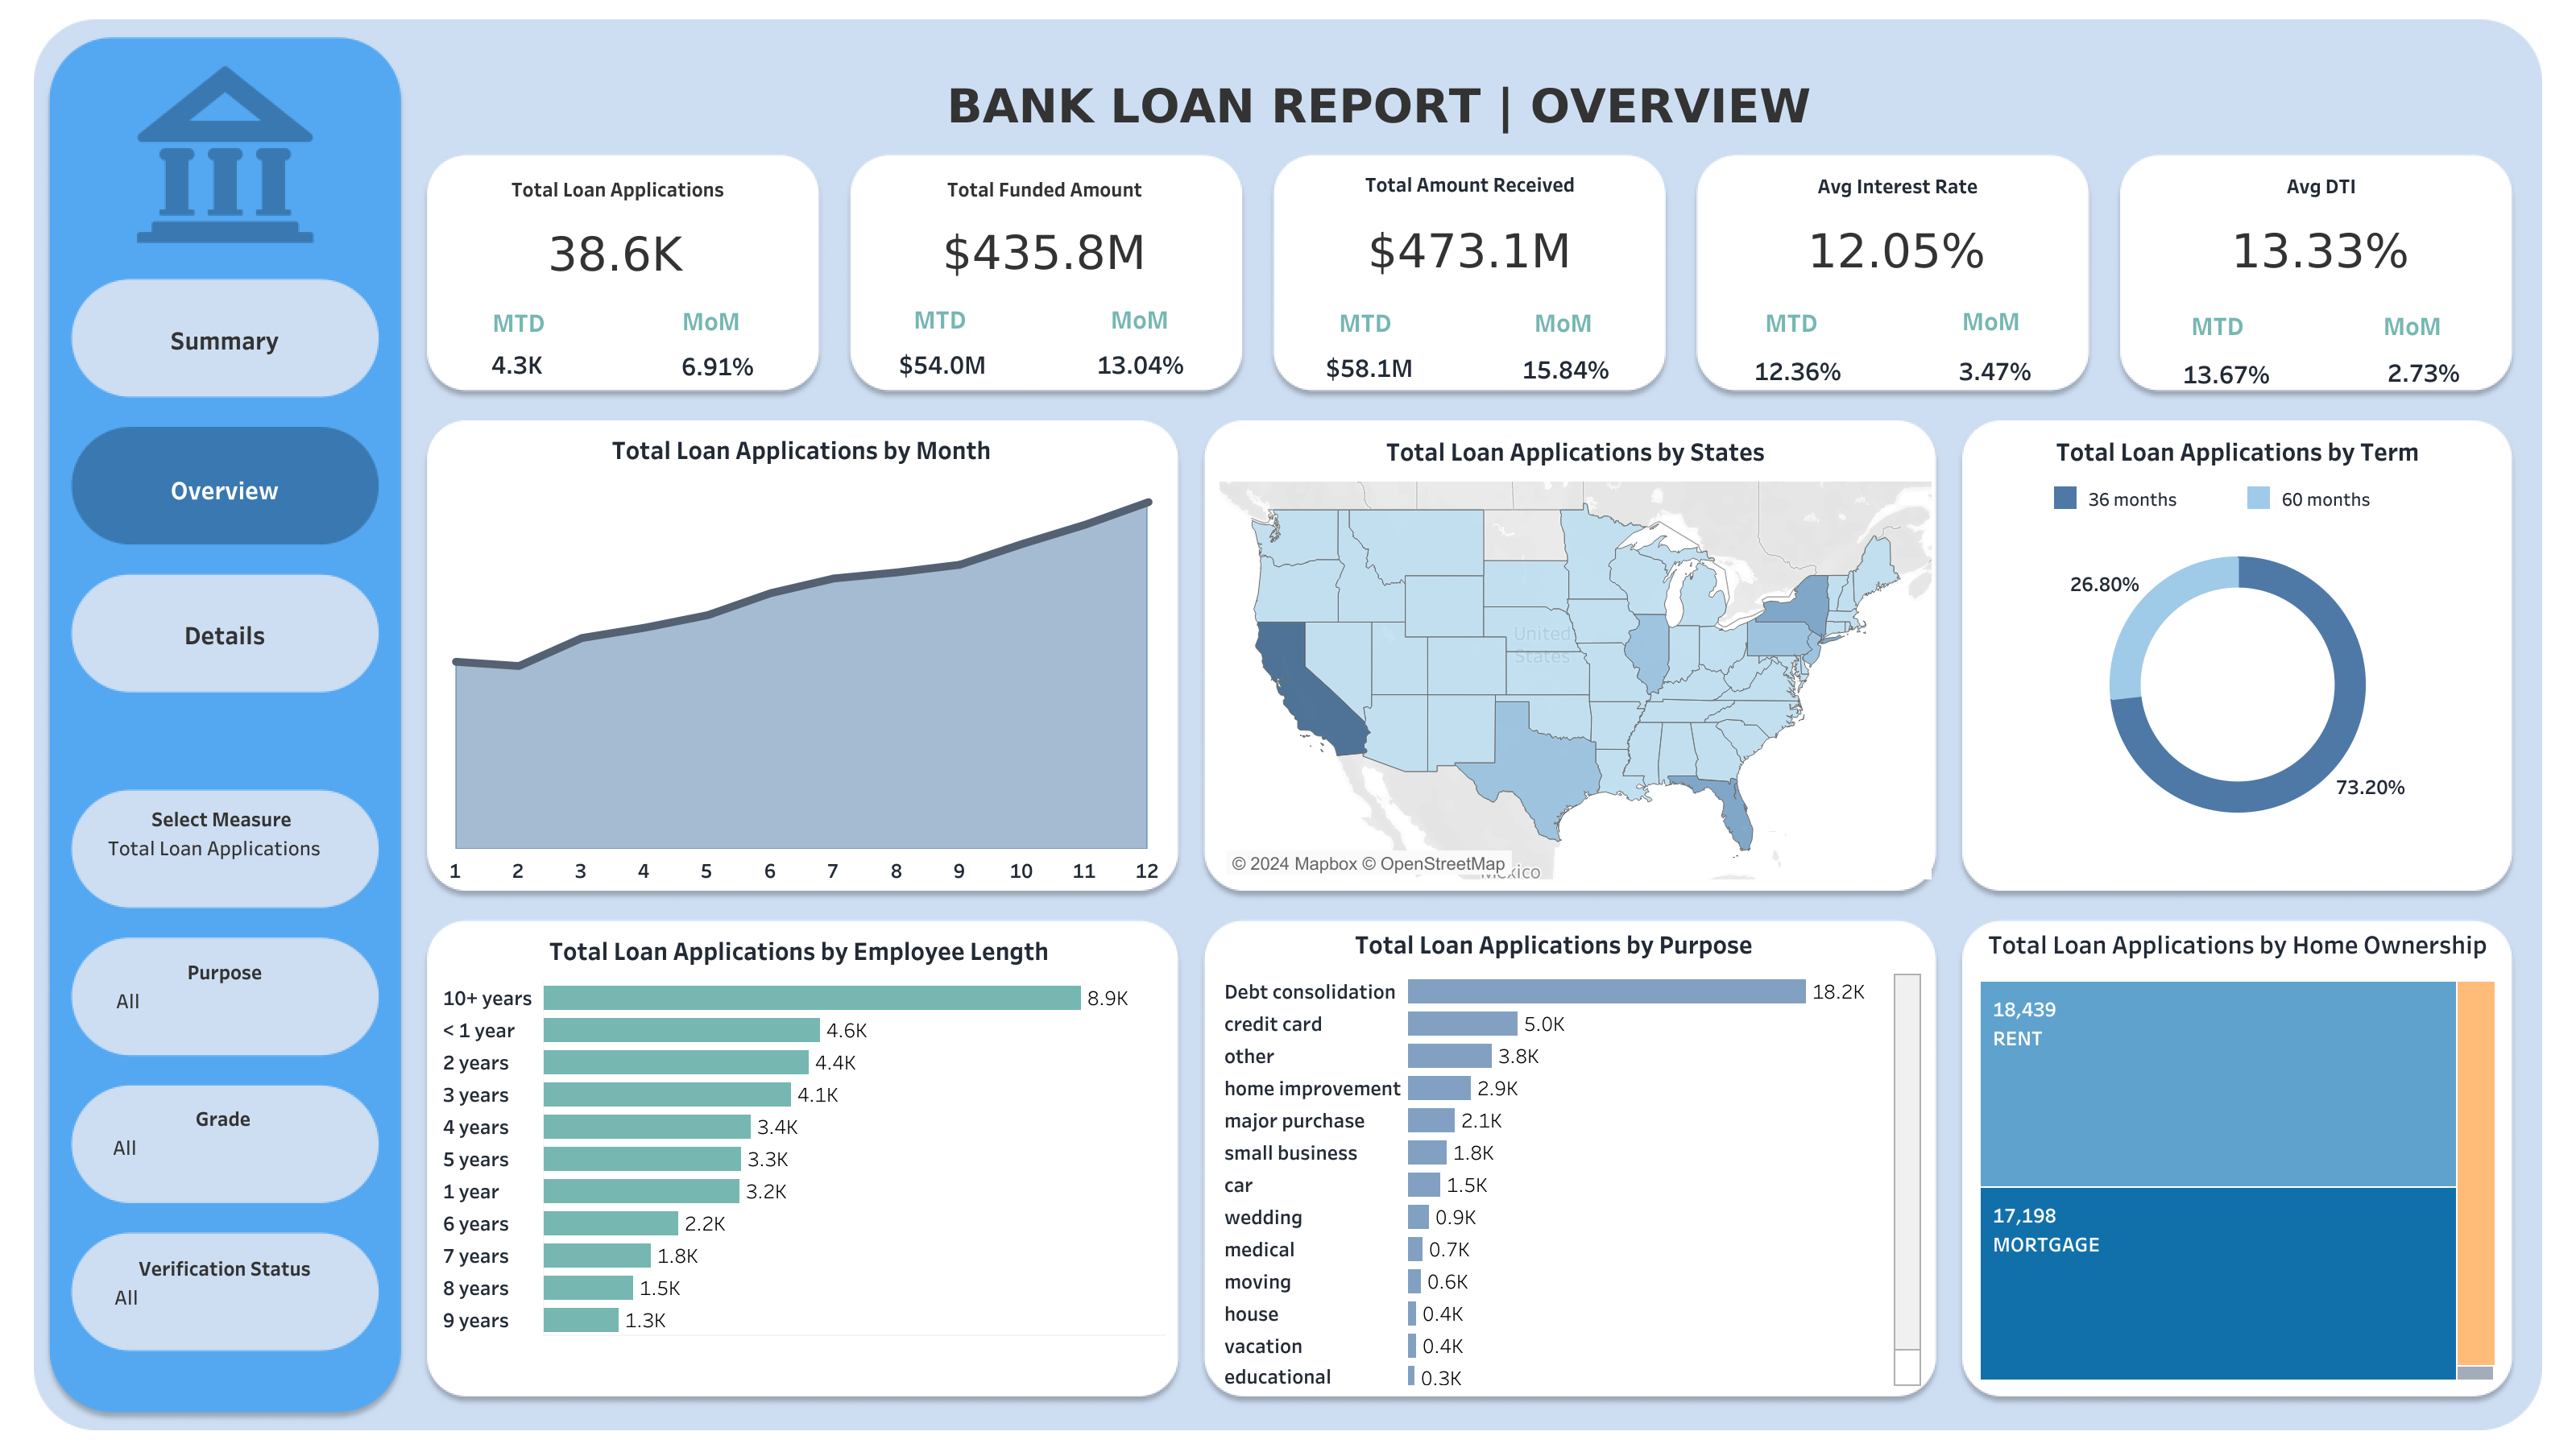

The page's visual inventory and layout, read from the dashboard file:
{"tool":"tableau","page":{"name":"OVERVIEW","canvas":[1000,1000],"units":"permille","ordinal":1},"visuals":[{"type":"image","param":"/Users/gahooshao/Downloads/project - bank loan/BACKGROUND 2.jpg","box":[5.3,9.1,989.4,981.7]},{"type":"text","box":[298,36.7,474.1,72.1]},{"type":"worksheet","title":"Total Amount Received","mark":"Automatic","box":[493.3,110.2,154.3,91.2]},{"type":"worksheet","title":"Avg Interest Rate","mark":"Automatic","box":[659.4,111.6,153.5,88.4]},{"type":"worksheet","title":"Avg DTI","mark":"Automatic","box":[823.8,111.6,153.5,88.4]},{"type":"worksheet","title":"Total Loan Applications","mark":"Automatic","box":[164.3,112.9,150.9,89.8]},{"type":"worksheet","title":"Total Funded Amount","mark":"Automatic","box":[328.6,112.9,153.3,87.1]},{"type":"dashboard-object","box":[21.9,155.1,125.3,70.8]},{"type":"text","box":[328.1,202.7,72.8,34]},{"type":"text","box":[401.7,202.7,80.7,32.6]},{"type":"text","box":[163.5,204.1,75.5,34]},{"type":"text","box":[235.8,204.1,80.2,32.6]},{"type":"text","box":[493.3,204.1,72.8,34]},{"type":"text","box":[658.6,204.1,72.8,34]},{"type":"text","box":[732.2,204.1,80.7,32.6]},{"type":"text","box":[566.2,205.4,80.7,32.6]},{"type":"text","box":[823.8,206.8,72.8,34]},{"type":"text","box":[895.9,206.8,80.7,32.6]},{"type":"worksheet","title":"MTD Funded Amount","mark":"Automatic","box":[327.3,228.6,76.7,44.9]},{"type":"worksheet","title":"MTD Total Loan Applications","mark":"Automatic","box":[163.5,229.9,75.5,42.2]},{"type":"worksheet","title":"MoM Funded Amount","mark":"Automatic","box":[403.3,229.9,79.1,42.2]},{"type":"worksheet","title":"MoM Loan Applications","mark":"Automatic","box":[240.6,231.3,75.5,40.8]},{"type":"worksheet","title":"MTD Amount Received","mark":"Automatic","box":[493.3,232.7,76.7,40.8]},{"type":"worksheet","title":"MoM Amount Received","mark":"Automatic","box":[567.7,235.4,79.9,36.7]},{"type":"worksheet","title":"MTD Avg Interest Rate","mark":"Automatic","box":[658.6,238.1,77.5,35.4]},{"type":"worksheet","title":"MoM Avg Interest Rate","mark":"Automatic","box":[736.9,238.1,75.2,34]},{"type":"worksheet","title":"MTD Avg DTI","mark":"Automatic","box":[823.8,239.5,80.7,35.4]},{"type":"worksheet","title":"MoM Avg DTI","mark":"Automatic","box":[904.5,240.8,72,31.3]},{"type":"dashboard-object","box":[21.9,253.1,125.3,70.8]},{"type":"worksheet","title":"Month","mark":"Area","rows":["Calculation_3516678034677956643","Calculation_3516678034677956643"],"cols":["issue_date"],"box":[164.5,291.2,292.9,318.4]},{"type":"worksheet","title":"State","mark":"Multipolygon","box":[469.9,291.2,284.3,319.7]},{"type":"worksheet","title":"Term","mark":"Pie","rows":["Calculation_3516678034722549797","Calculation_3516678034722607143"],"box":[765.9,291.2,211.4,321.1]},{"type":"legend","title":"Term","param":"[federated.0blpzld10ge82l11qd87n1spwplw].[none:term:nk]","box":[794.8,332,191.9,29.9]},{"type":"dashboard-object","box":[21.9,352.4,125.3,70.8]},{"type":"parameter","param":"[Parameters].[参数 1]","box":[22.7,458.5,125.3,59.9]},{"type":"filter","title":"Avg DTI","param":"[federated.0blpzld10ge82l11qd87n1spwplw].[none:purpose:nk]","box":[21.9,555.1,125.3,74.8]},{"type":"worksheet","title":"Home Ownership","mark":"Automatic","box":[765.9,631.3,211.4,323.8]},{"type":"worksheet","title":"Emp Length","mark":"Automatic","rows":["emp_length"],"cols":["Calculation_3516678034677956643"],"box":[164.5,632.6,292.9,322.4]},{"type":"worksheet","title":"Purpose","mark":"Automatic","rows":["purpose"],"cols":["Calculation_3516678034677956643"],"box":[469.9,632.6,284.3,322.4]},{"type":"filter","title":"Avg DTI","param":"[federated.0blpzld10ge82l11qd87n1spwplw].[none:grade:nk]","box":[21.9,666.7,125.3,74.8]},{"type":"filter","title":"Avg DTI","param":"[federated.0blpzld10ge82l11qd87n1spwplw].[none:verification_status:nk]","box":[22.7,775.5,125.3,74.8]}]}

Visuals, with their boxes on the dashboard's canvas, which has no fixed pixel size, in thousandths of its width and height (x1, y1, x2, y2). These are canvas units, not pixel positions in the 2576x1448 screenshot, which may show the page scaled, cropped or inside an application window:
image: (5, 9, 995, 991)
text: (298, 37, 772, 109)
"Total Amount Received" worksheet: (493, 110, 648, 201)
"Avg Interest Rate" worksheet: (659, 112, 813, 200)
"Avg DTI" worksheet: (824, 112, 977, 200)
"Total Loan Applications" worksheet: (164, 113, 315, 203)
"Total Funded Amount" worksheet: (329, 113, 482, 200)
dashboard-object: (22, 155, 147, 226)
text: (328, 203, 401, 237)
text: (402, 203, 482, 235)
text: (164, 204, 239, 238)
text: (236, 204, 316, 237)
text: (493, 204, 566, 238)
text: (659, 204, 731, 238)
text: (732, 204, 813, 237)
text: (566, 205, 647, 238)
text: (824, 207, 897, 241)
text: (896, 207, 977, 239)
"MTD Funded Amount" worksheet: (327, 229, 404, 274)
"MTD Total Loan Applications" worksheet: (164, 230, 239, 272)
"MoM Funded Amount" worksheet: (403, 230, 482, 272)
"MoM Loan Applications" worksheet: (241, 231, 316, 272)
"MTD Amount Received" worksheet: (493, 233, 570, 274)
"MoM Amount Received" worksheet: (568, 235, 648, 272)
"MTD Avg Interest Rate" worksheet: (659, 238, 736, 274)
"MoM Avg Interest Rate" worksheet: (737, 238, 812, 272)
"MTD Avg DTI" worksheet: (824, 240, 904, 275)
"MoM Avg DTI" worksheet: (904, 241, 976, 272)
dashboard-object: (22, 253, 147, 324)
"Month" worksheet (Area marks): (164, 291, 457, 610)
"State" worksheet (Multipolygon marks): (470, 291, 754, 611)
"Term" worksheet (Pie marks): (766, 291, 977, 612)
"Term" legend: (795, 332, 987, 362)
dashboard-object: (22, 352, 147, 423)
parameter: (23, 458, 148, 518)
"Avg DTI" filter: (22, 555, 147, 630)
"Home Ownership" worksheet: (766, 631, 977, 955)
"Emp Length" worksheet: (164, 633, 457, 955)
"Purpose" worksheet: (470, 633, 754, 955)
"Avg DTI" filter: (22, 667, 147, 742)
"Avg DTI" filter: (23, 776, 148, 850)
